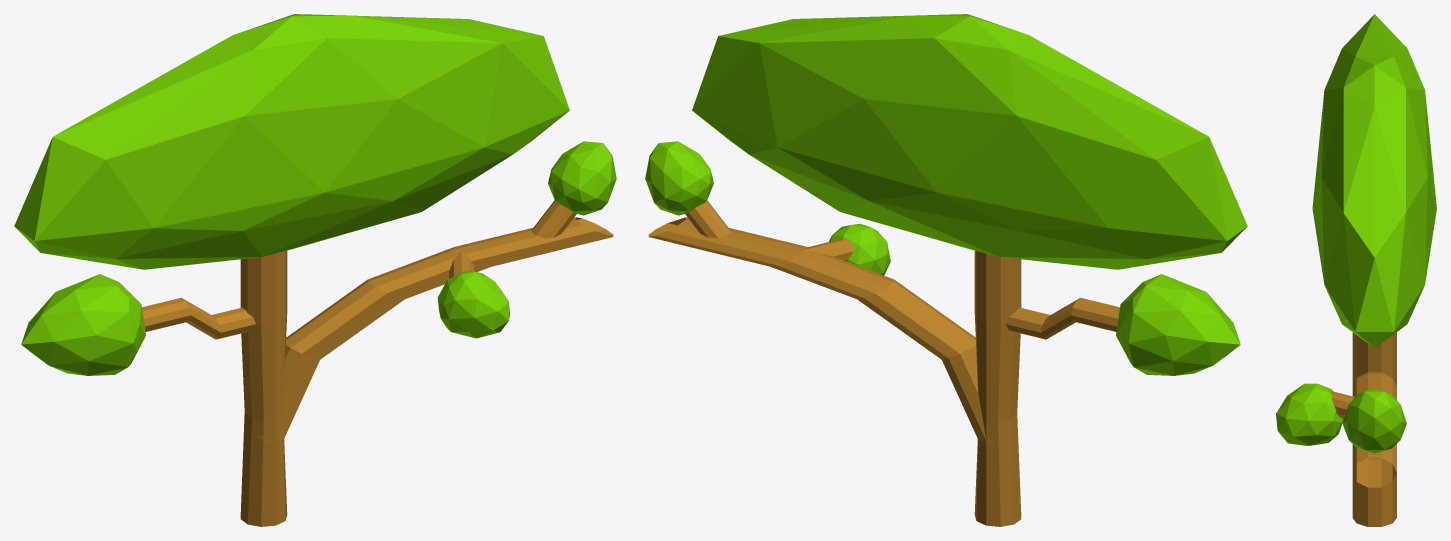
Rendered from Arbres_Geant.fbx.
The picture shows the model from 3 angles, left to right: view 1: azimuth 30°, elevation 25°; view 2: azimuth 150°, elevation 25°; view 3: azimuth 270°, elevation 25°; orthographic projection. The views are drawn at different scales.
Parts seen in each view (by area): view 1: Icosphere, Cylinder_002, Cylinder, Icosphere_001, Icosphere_002, Icosphere_003, Cylinder_001, Cylinder_003; view 2: Icosphere, Cylinder_002, Cylinder, Icosphere_001, Icosphere_002, Cylinder_001, Icosphere_003, Cylinder_003; view 3: Icosphere, Cylinder, Icosphere_003, Icosphere_002, Cylinder_002, Cylinder_004.
Boxes of the visible parts, bbox=[...] form: Icosphere: bbox=[14, 14, 569, 269]; Cylinder_002: bbox=[253, 217, 613, 443]; Cylinder: bbox=[240, 250, 287, 526]; Icosphere_001: bbox=[21, 274, 145, 375]; Icosphere_002: bbox=[548, 141, 616, 215]; Icosphere_003: bbox=[437, 271, 509, 338]; Cylinder_001: bbox=[142, 297, 255, 339]; Cylinder_003: bbox=[531, 200, 576, 238]; Icosphere: bbox=[692, 14, 1247, 269]; Cylinder_002: bbox=[648, 217, 998, 443]; Cylinder: bbox=[974, 250, 1021, 526]; Icosphere_001: bbox=[1116, 274, 1240, 375]; Icosphere_002: bbox=[645, 141, 713, 215]; Cylinder_001: bbox=[1006, 297, 1119, 339]; Icosphere_003: bbox=[829, 223, 890, 275]; Cylinder_003: bbox=[685, 200, 730, 238]; Icosphere: bbox=[1312, 14, 1436, 348]; Cylinder: bbox=[1352, 332, 1396, 526]; Icosphere_003: bbox=[1276, 383, 1343, 445]; Icosphere_002: bbox=[1342, 388, 1406, 453]; Cylinder_002: bbox=[1356, 371, 1396, 487]; Cylinder_004: bbox=[1331, 391, 1354, 418].
Bounding box in the file's own units: 14.55 × 11.61 × 3.64.
